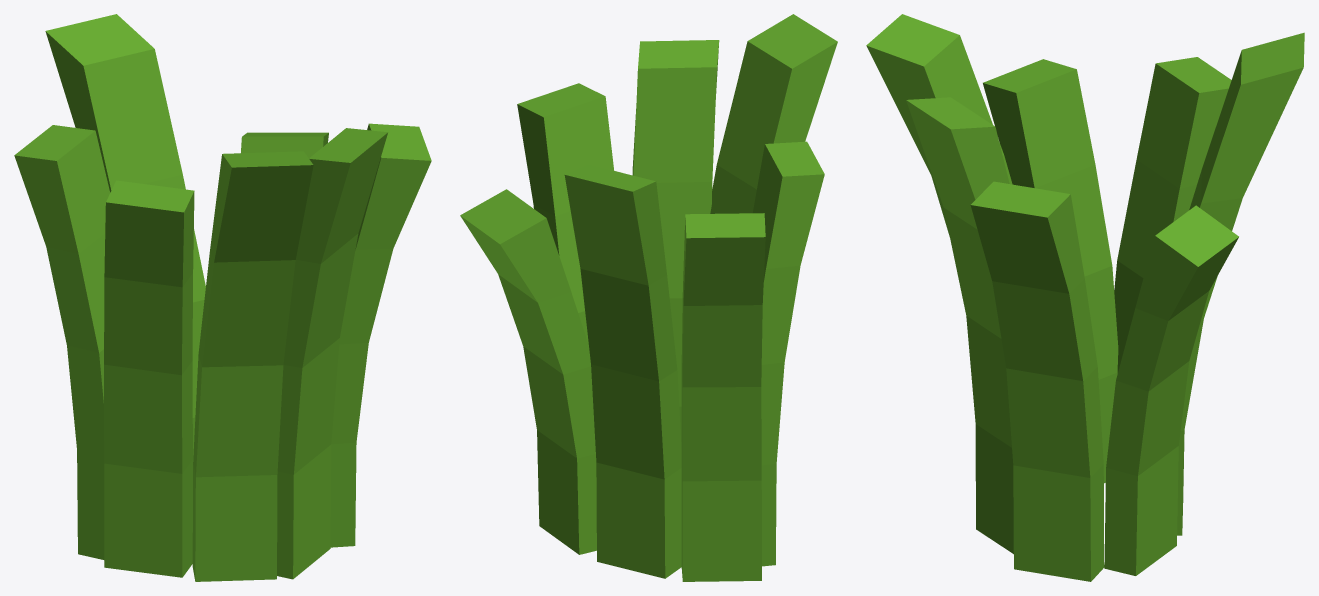
File: trava1.fbx
The picture shows the model from 3 angles, left to right: view 1: azimuth 30°, elevation 25°; view 2: azimuth 150°, elevation 25°; view 3: azimuth 270°, elevation 25°; orthographic projection. The views are drawn at different scales.
Parts seen in each view (by area): view 1: Grass #3; view 2: Grass #3; view 3: Grass #3.
Boxes of the visible parts, box(x1,y1,x2,y2) form: Grass #3: box(14, 14, 431, 581); Grass #3: box(460, 14, 837, 581); Grass #3: box(866, 14, 1304, 581).
Size of the model in its own units: 288 by 385 by 327.
